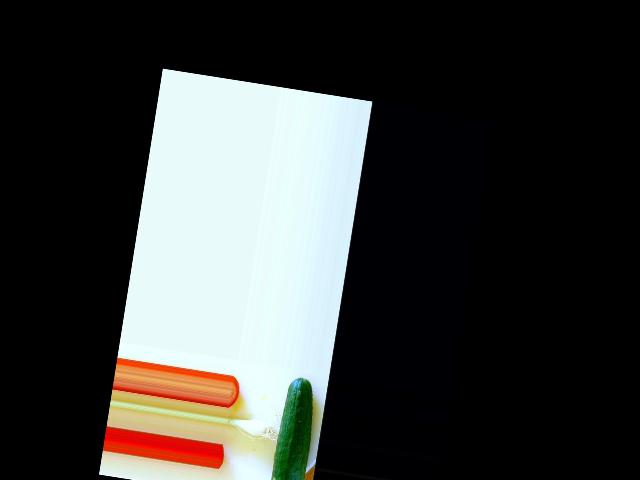cucumber: (270, 374, 320, 480)
